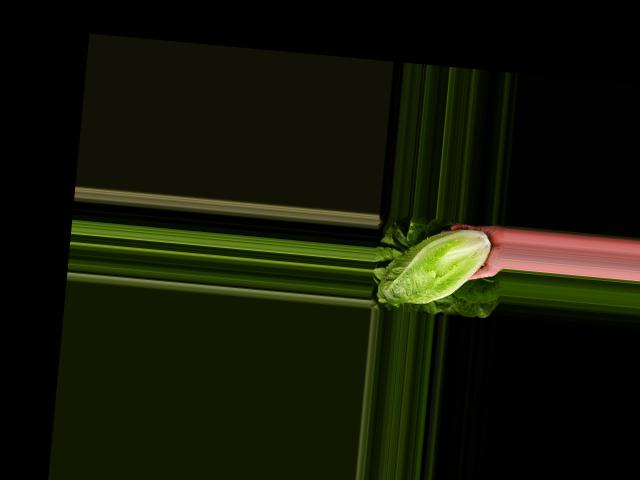lettuce: (375, 218, 494, 313)
